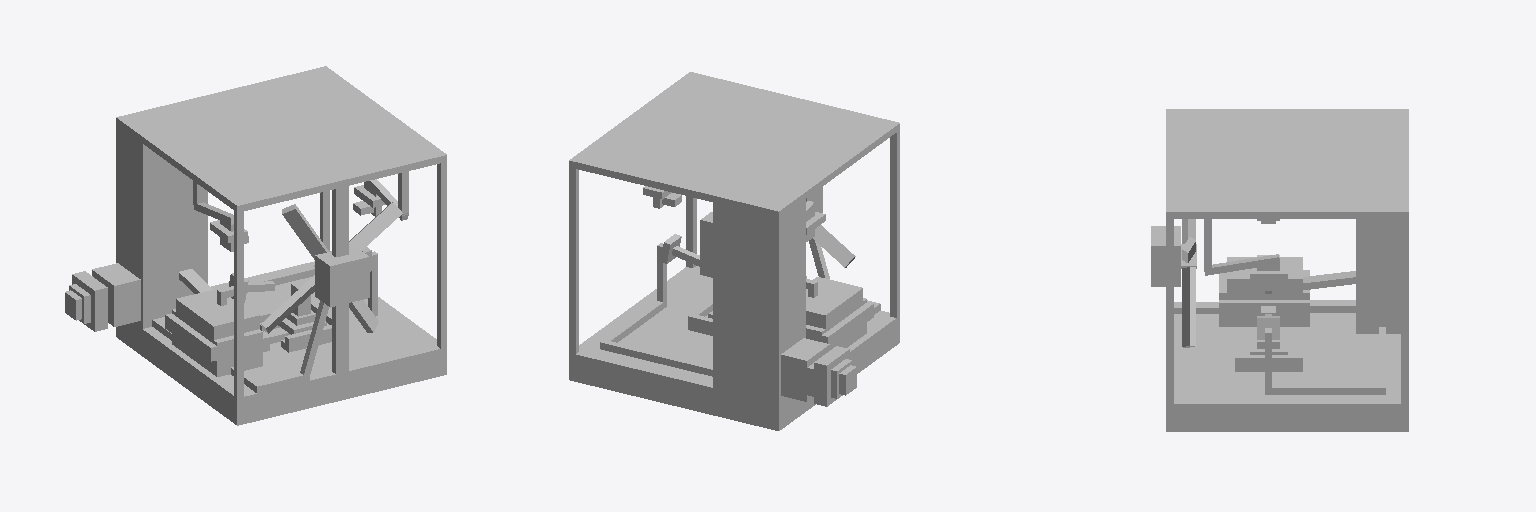
File: retifier_valve_on_base.obj
The picture shows the model from 3 angles: view 1: azimuth 30°, elevation 25°; view 2: azimuth 150°, elevation 25°; view 3: azimuth 270°, elevation 25°; orthographic projection.
Visible parts, largest first — view 1: cube; view 2: cube; view 3: cube.
Part boxes in pixels (x1,y1,x2,y2): cube: (65,66,446,425); cube: (569,72,899,430); cube: (1151,109,1408,431).
Size of the model in its own units: 2.56 by 2 by 2.12.